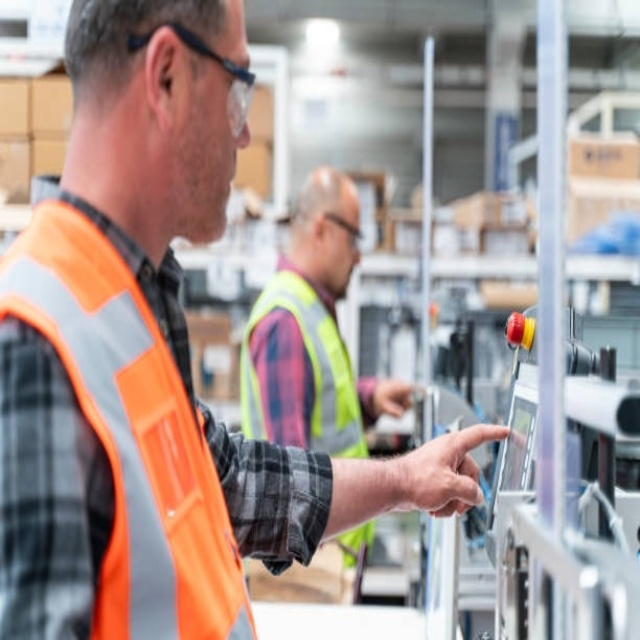Gafas: (125, 22, 256, 136), (320, 212, 364, 244)
Sin_guantes: (393, 420, 510, 522), (368, 377, 419, 422)
Sin_mascara: (190, 146, 247, 235), (324, 259, 358, 301)
